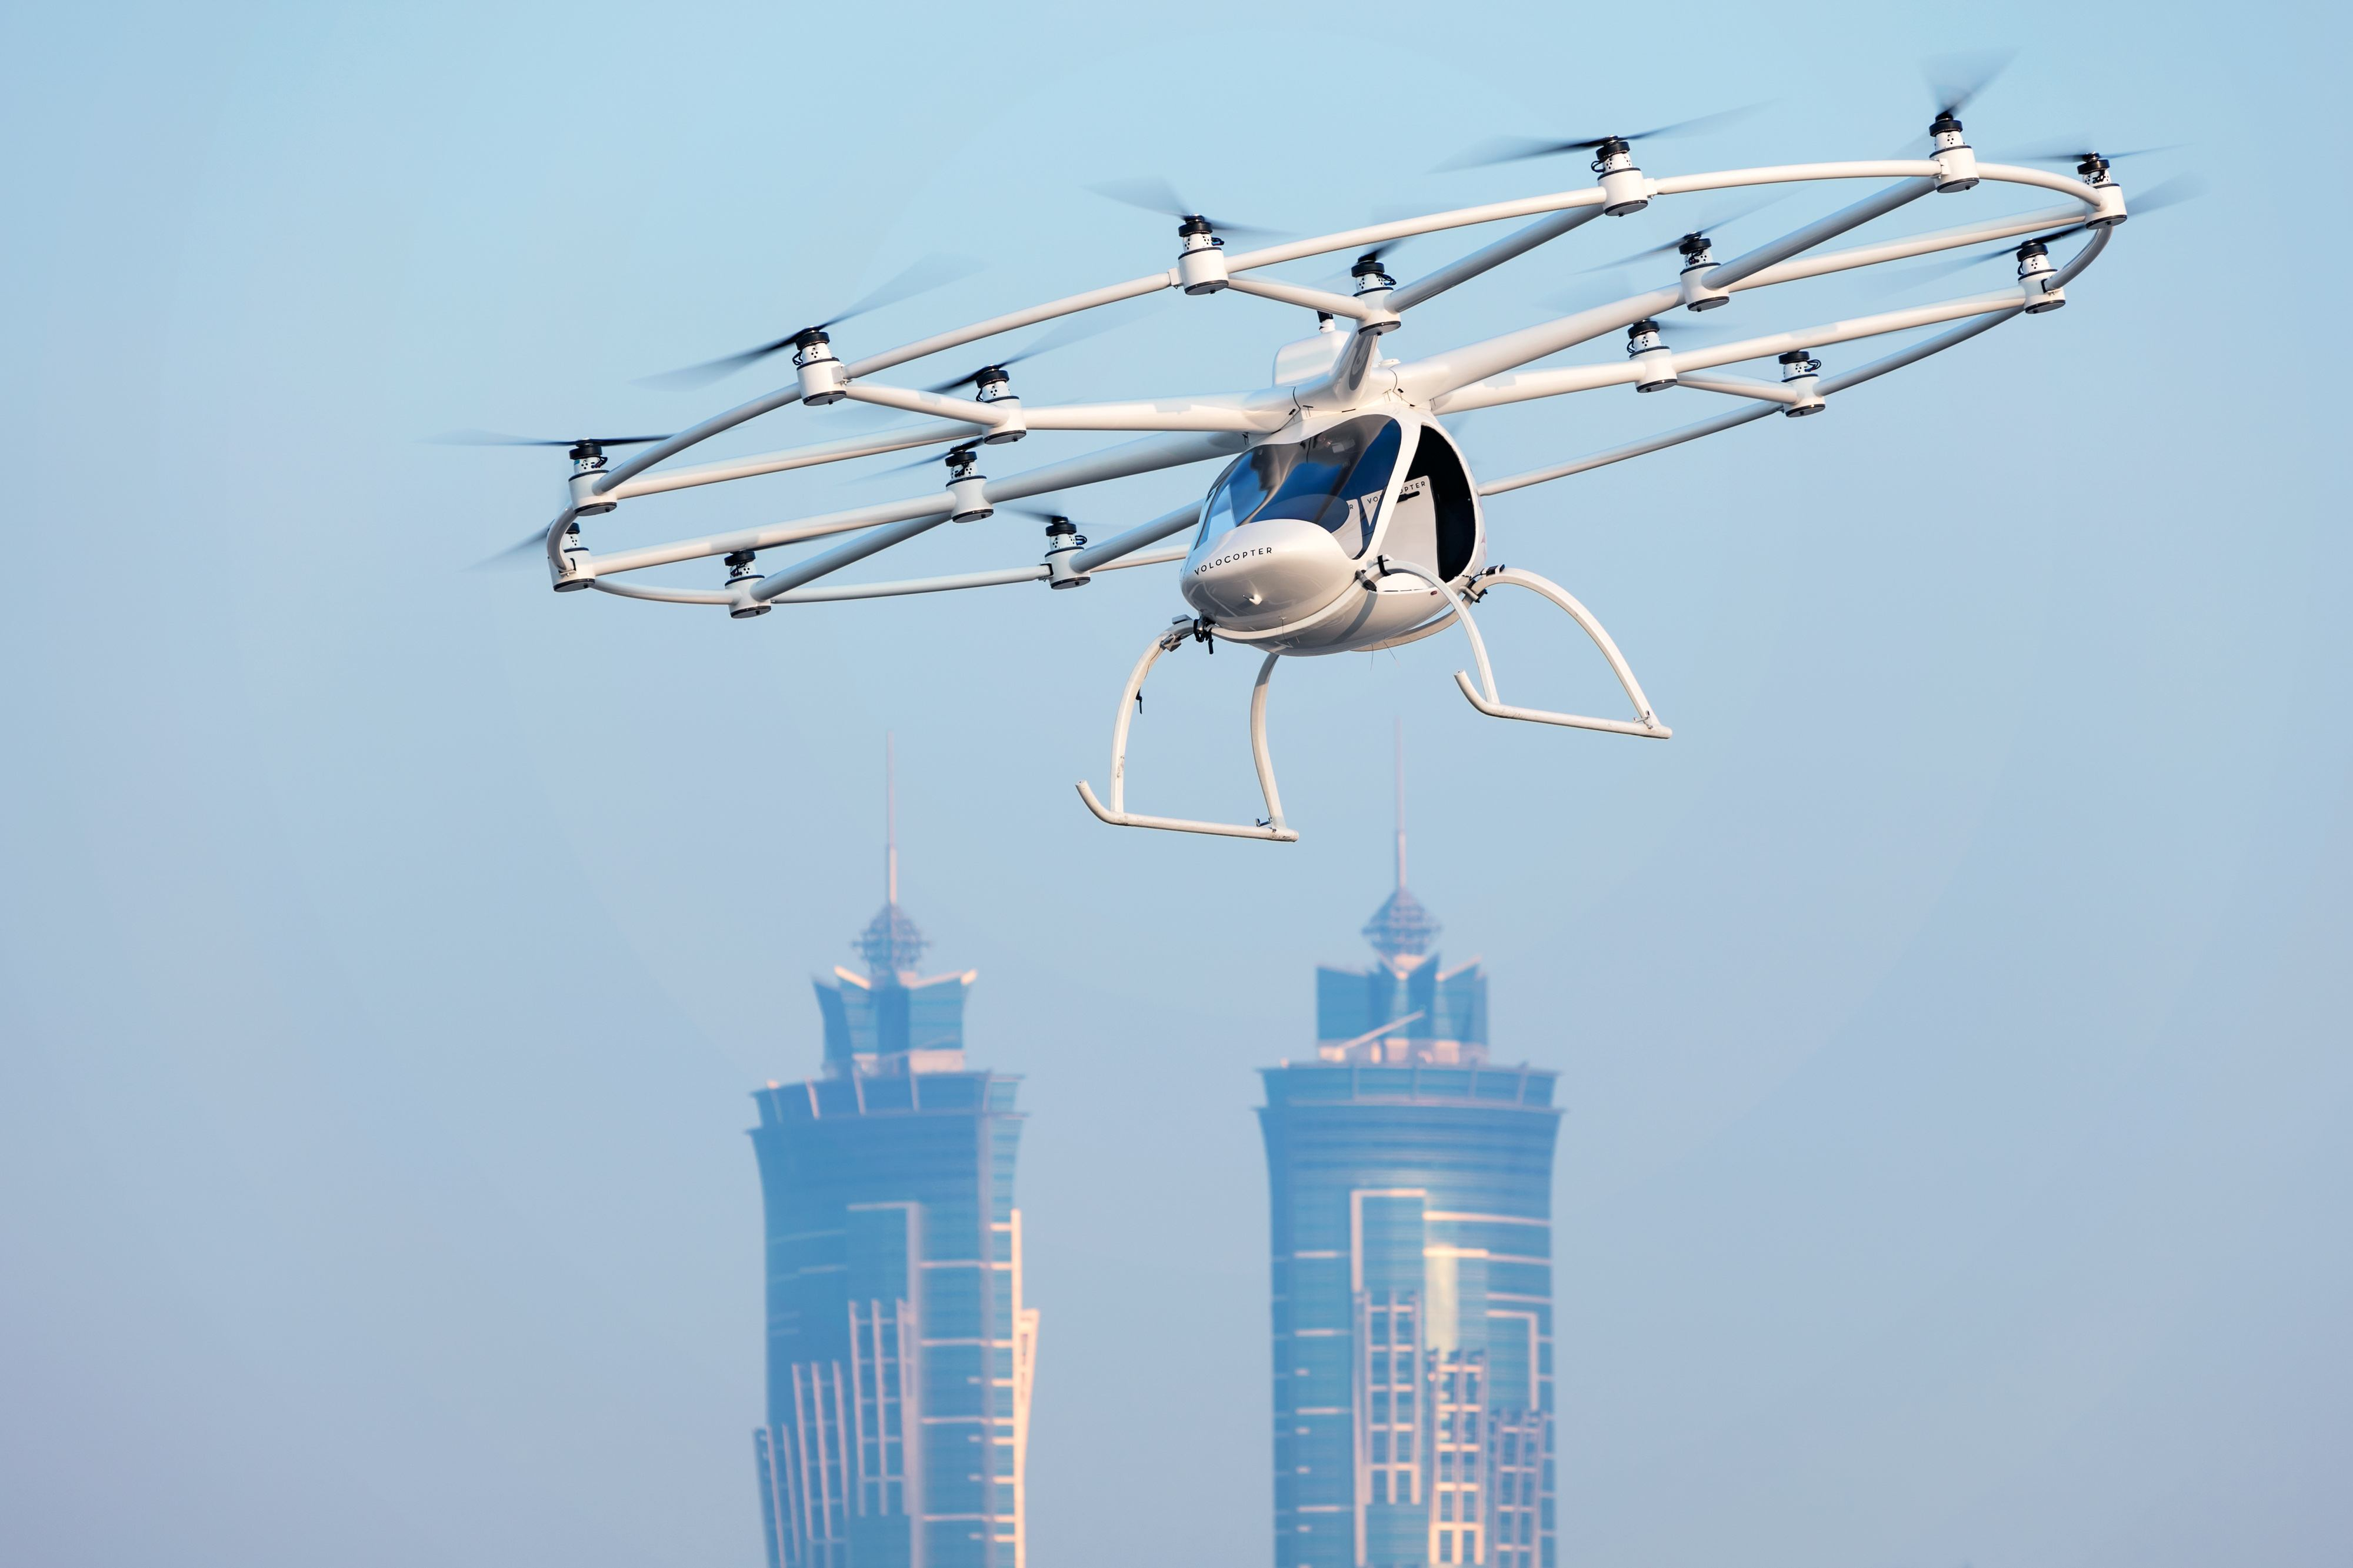drone: (430, 38, 2217, 856)
